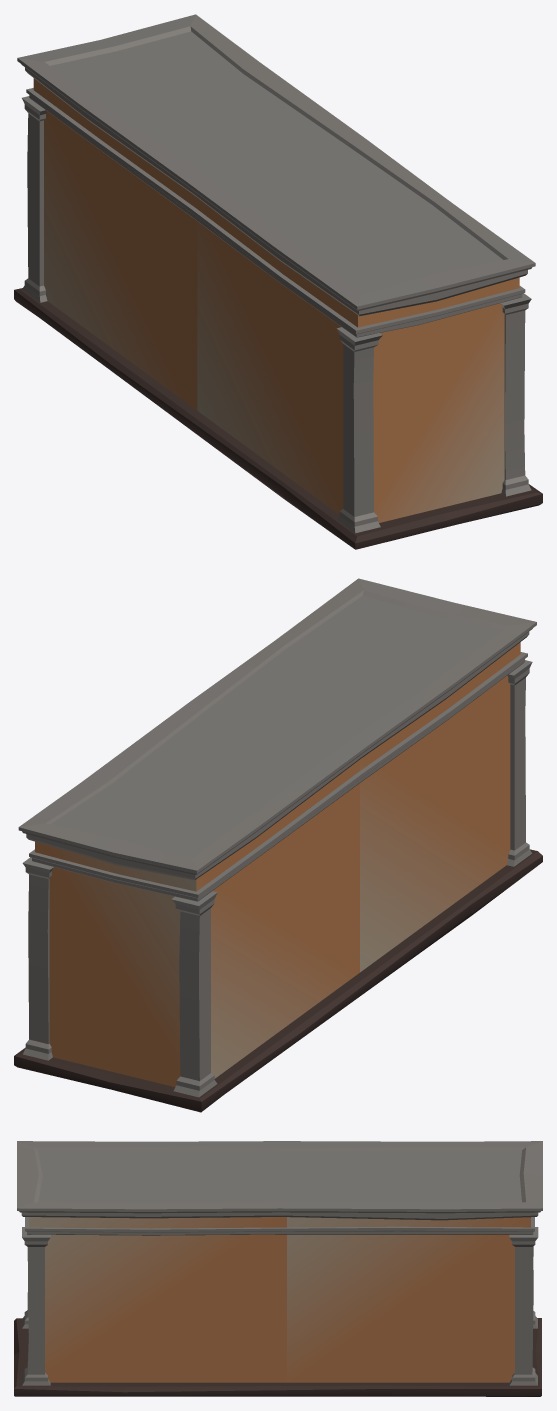
The model's file is SM_Bld_Cuba_Hall_Room_02.glb.
The picture shows the model from 3 angles, top to bottom: view 1: azimuth 30°, elevation 25°; view 2: azimuth 150°, elevation 25°; view 3: azimuth 270°, elevation 25°; orthographic projection. The views are drawn at different scales.
Visible parts, largest first — view 1: SM_Bld_Cuba_Hall_Room_02; view 2: SM_Bld_Cuba_Hall_Room_02; view 3: SM_Bld_Cuba_Hall_Room_02.
Part boxes in pixels (x1,y1,x2,y2): SM_Bld_Cuba_Hall_Room_02: (14, 14, 542, 549); SM_Bld_Cuba_Hall_Room_02: (14, 578, 542, 1112); SM_Bld_Cuba_Hall_Room_02: (14, 1141, 542, 1396).
Size of the model in its own units: 0.0359 by 0.0442 by 0.1132.
